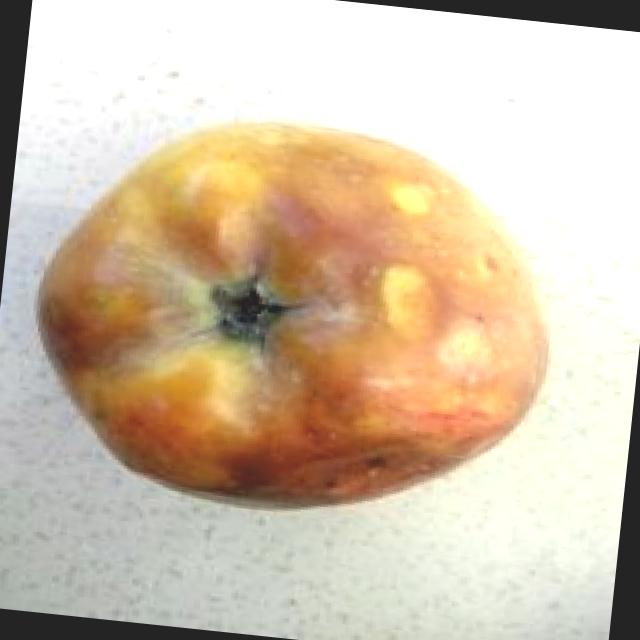Rotten_Apple: (24, 98, 578, 550)
